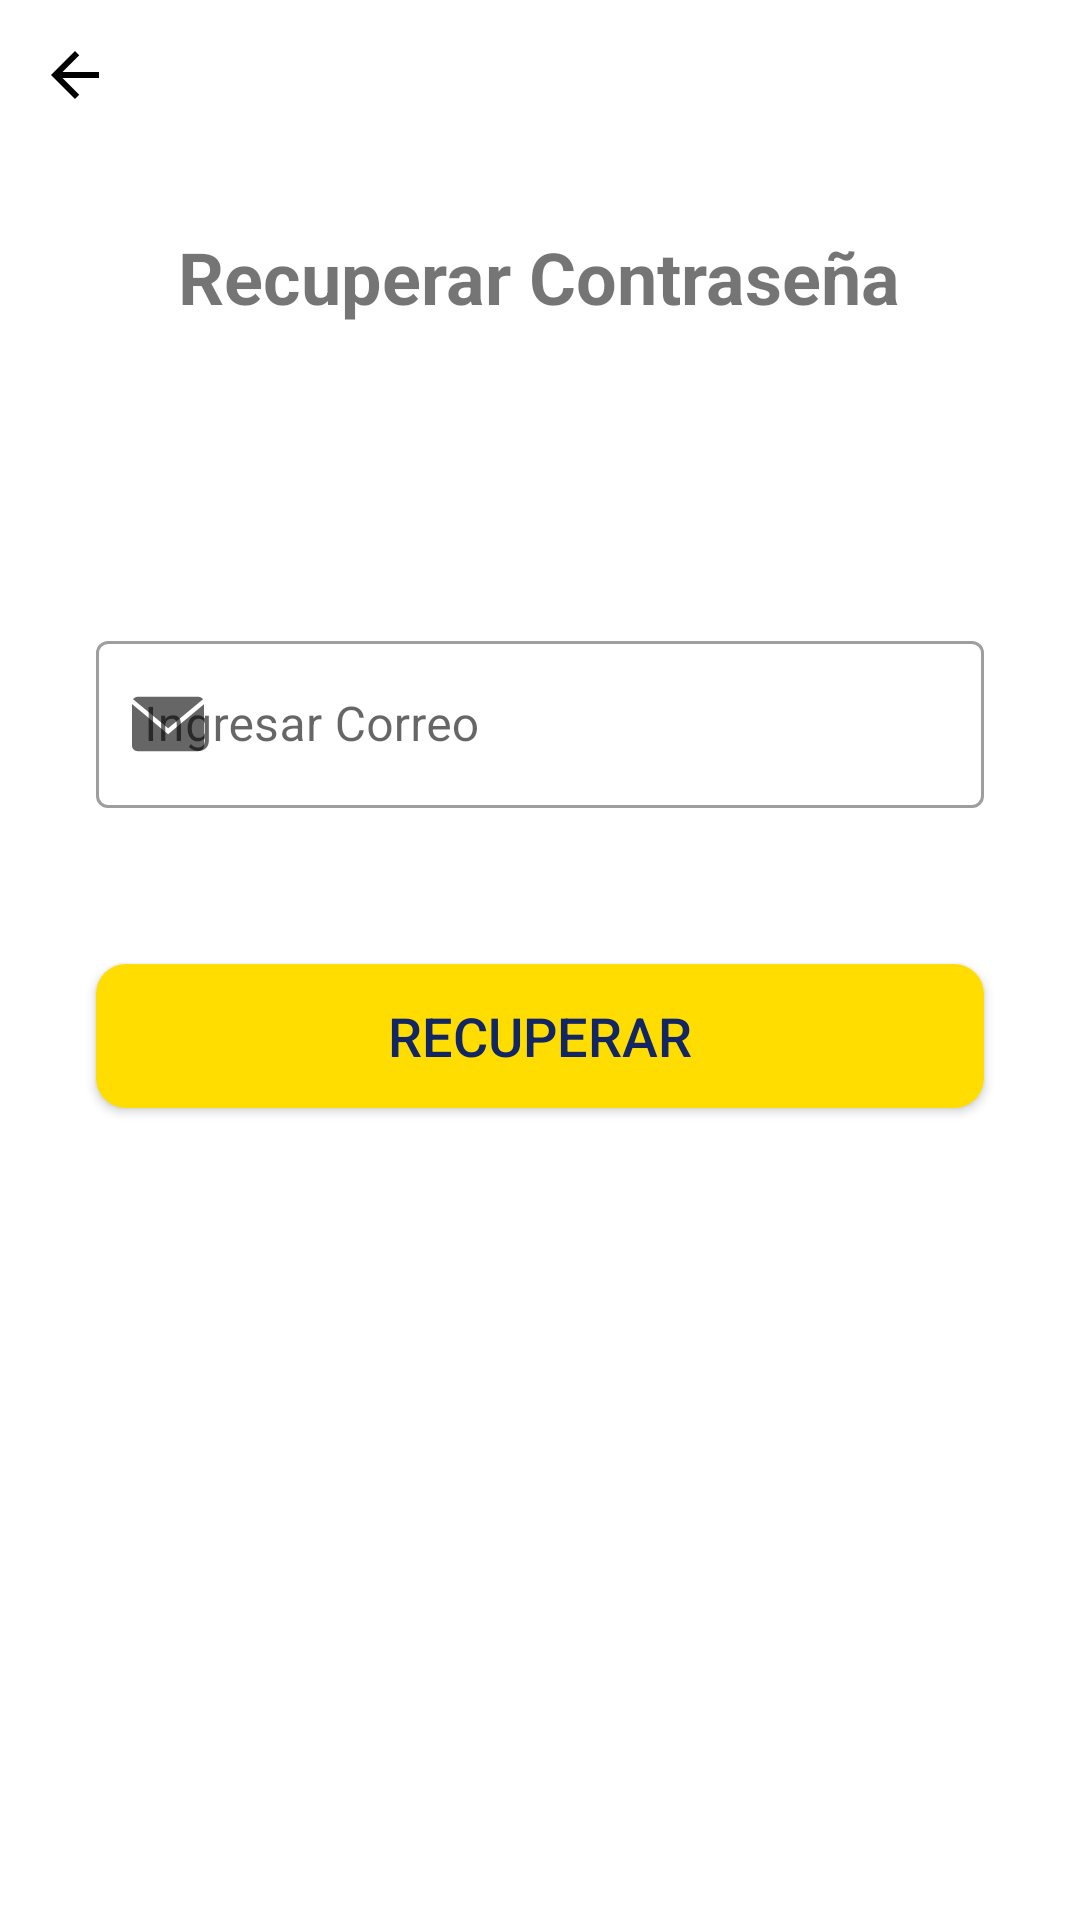

Screen size 1080 x 1920. Icon name, then its box in pixels as region(x1, y1, x2, y2):
Atrás: region(51, 51, 99, 99)
